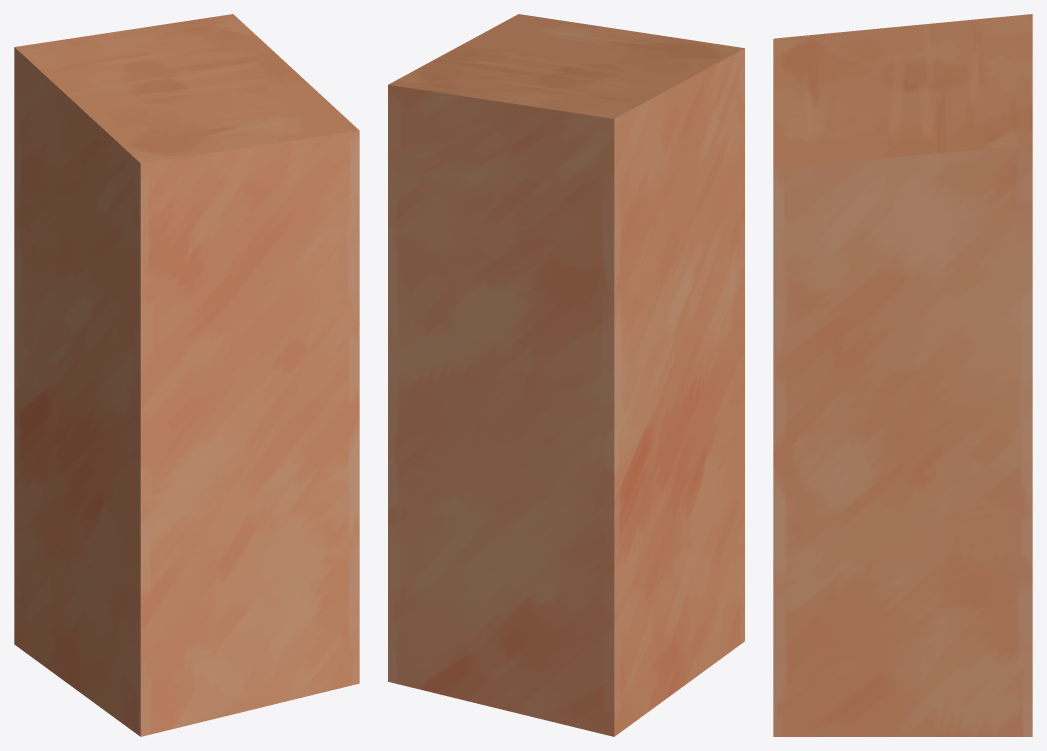
Rendered from corner_upper_s00.fbx.
3 renders of one model, left to right at view 1: azimuth 30°, elevation 25°; view 2: azimuth 150°, elevation 25°; view 3: azimuth 270°, elevation 25°, orthographic. The views are drawn at different scales.
Parts seen in each view (by area): view 1: corner_upper_s00; view 2: corner_upper_s00; view 3: corner_upper_s00.
Part boxes in pixels (box(x1,y1,x2,y2)): corner_upper_s00: box(14, 14, 359, 736); corner_upper_s00: box(388, 14, 744, 736); corner_upper_s00: box(773, 14, 1032, 736).
Size of the model in its own units: 1.5 by 3.91 by 1.5.
